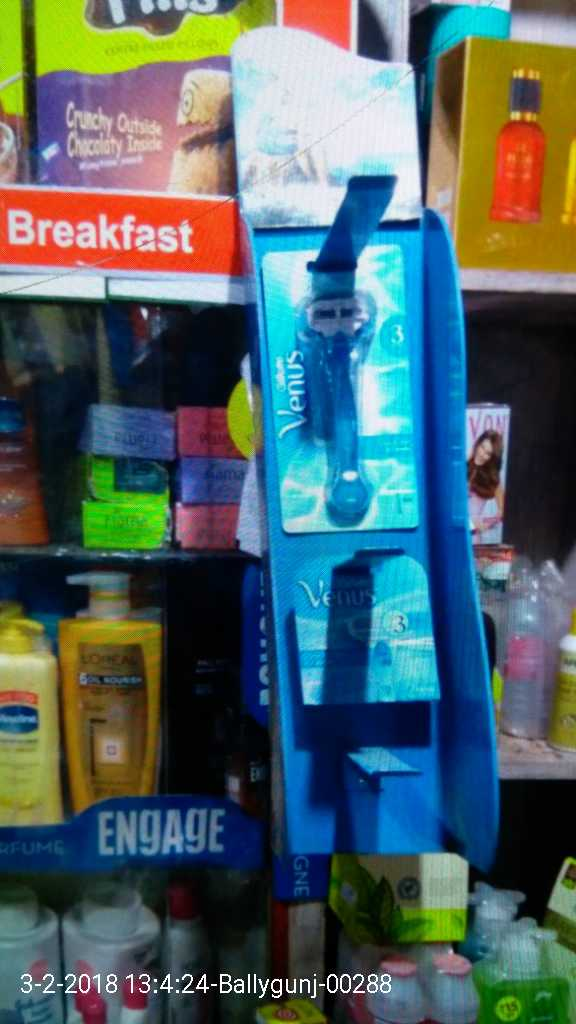venus: (261, 247, 419, 537), (283, 558, 446, 717)
